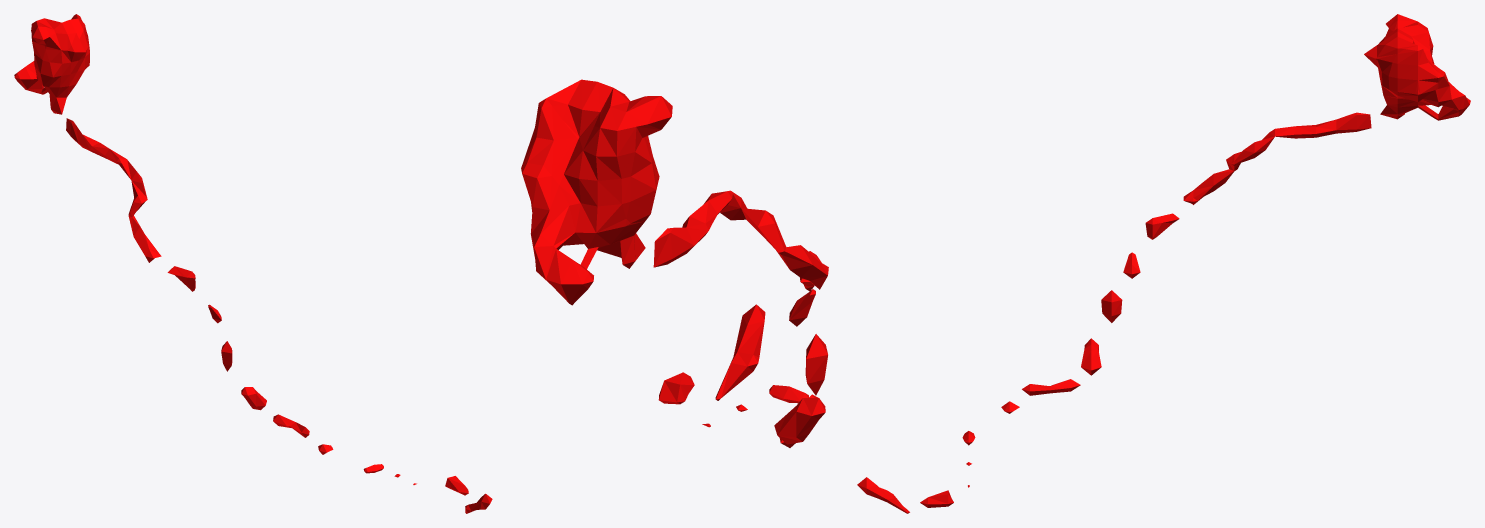
The model's file is sucB_coarse.dae.
3 views of the same model, side by side, from view 1: azimuth 30°, elevation 25°; view 2: azimuth 150°, elevation 25°; view 3: azimuth 270°, elevation 25° (orthographic). The views are drawn at different scales.
Visible parts, largest first — view 1: sucB; view 2: sucB; view 3: sucB.
Part boxes in pixels (bbox=[...]): sucB: bbox=[14, 14, 492, 513]; sucB: bbox=[521, 79, 828, 447]; sucB: bbox=[857, 14, 1470, 513].
Bounding box in the file's own units: 160 × 260 × 367.
